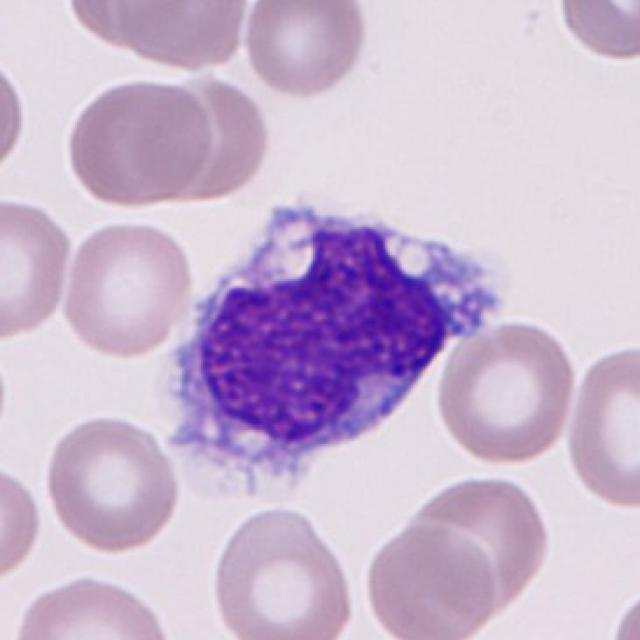Monocyte: (142, 184, 515, 501)
RBC: (392, 467, 554, 619), (432, 314, 579, 468), (41, 409, 186, 557), (206, 501, 358, 640), (59, 215, 200, 363), (61, 73, 210, 210), (133, 69, 280, 205), (361, 520, 498, 640), (240, 0, 374, 101), (563, 338, 638, 514), (8, 569, 176, 640), (0, 192, 75, 344), (108, 0, 252, 73), (61, 0, 208, 57), (0, 458, 47, 588), (551, 0, 640, 66), (0, 47, 30, 182), (605, 579, 640, 640), (0, 333, 10, 458)
